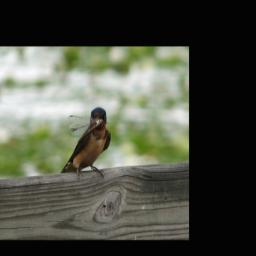Swallow: (60, 107, 111, 183)
